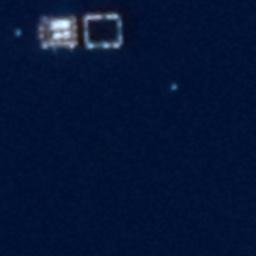square_solid: (37, 11, 80, 52), (81, 11, 125, 51)
